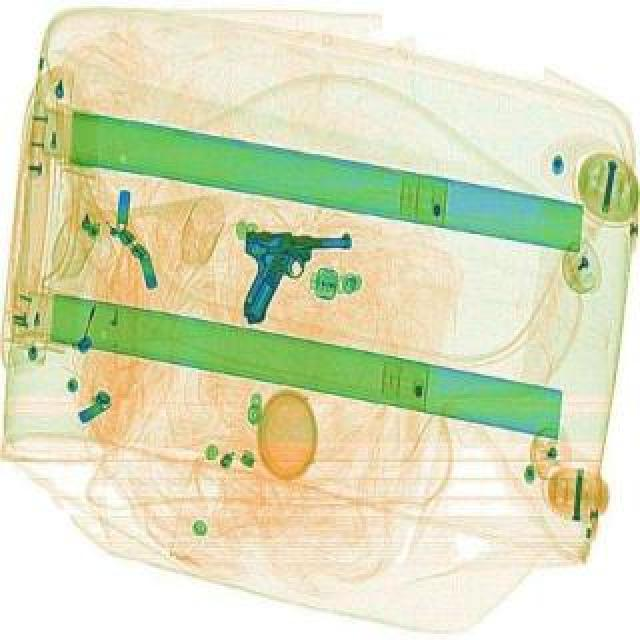gun: (242, 230, 352, 320)
